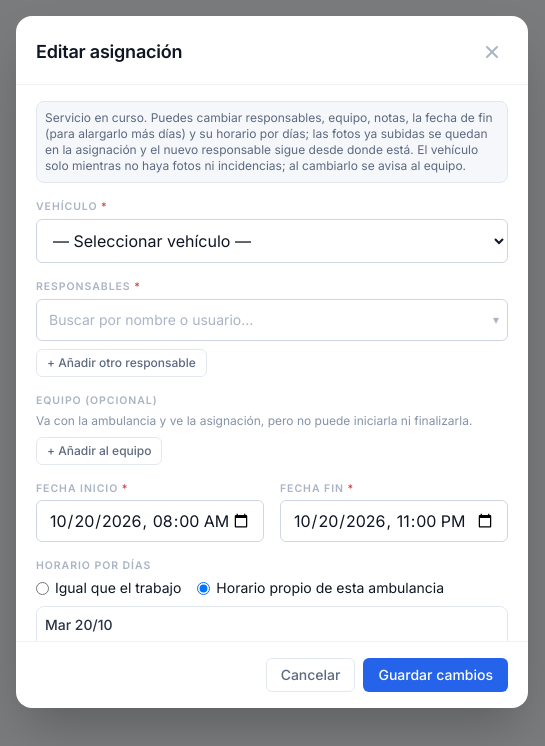
Scenario: AsignacionForm · alargar una ambulancia con horario propio › dice que el trabajo tiene horario fuera de sus fechas y, al alargarla, copia ese día
The width and height of the screenshot is (545, 746).
Replace the text in the field below "Fecha fin" with "2026-10-21T23:00": (394, 521) [280,500,508,542]
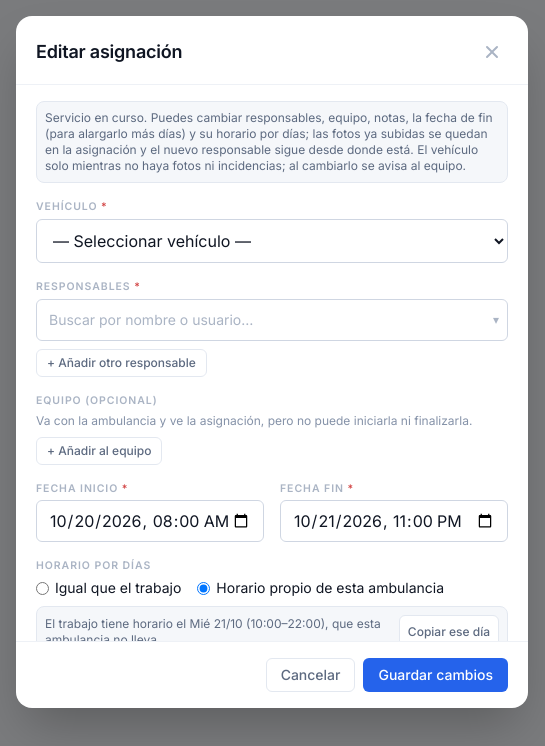
Now the element with test id "copiar-del-trabajo" shows "Mié 21/10 (10:00–22:00)", box [176,616,325,631]
Click the button "Copiar ese día": click(449, 632) [399,615,499,649]
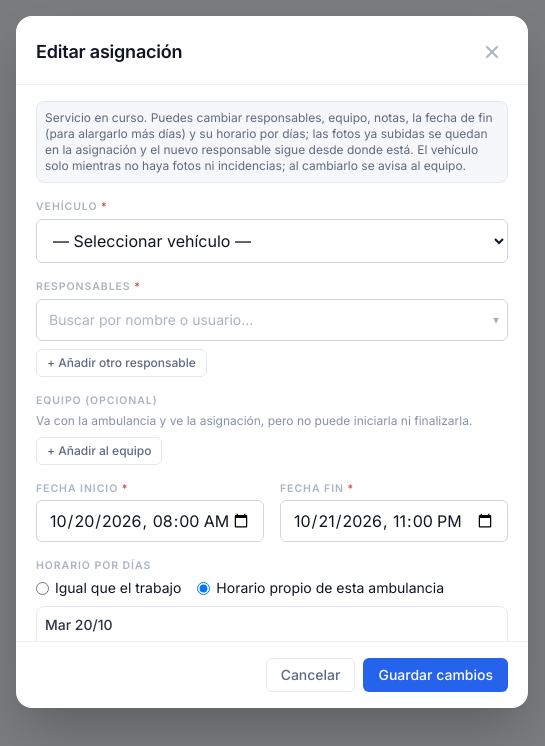
Now the element with test id "copiar-del-trabajo" is gone
